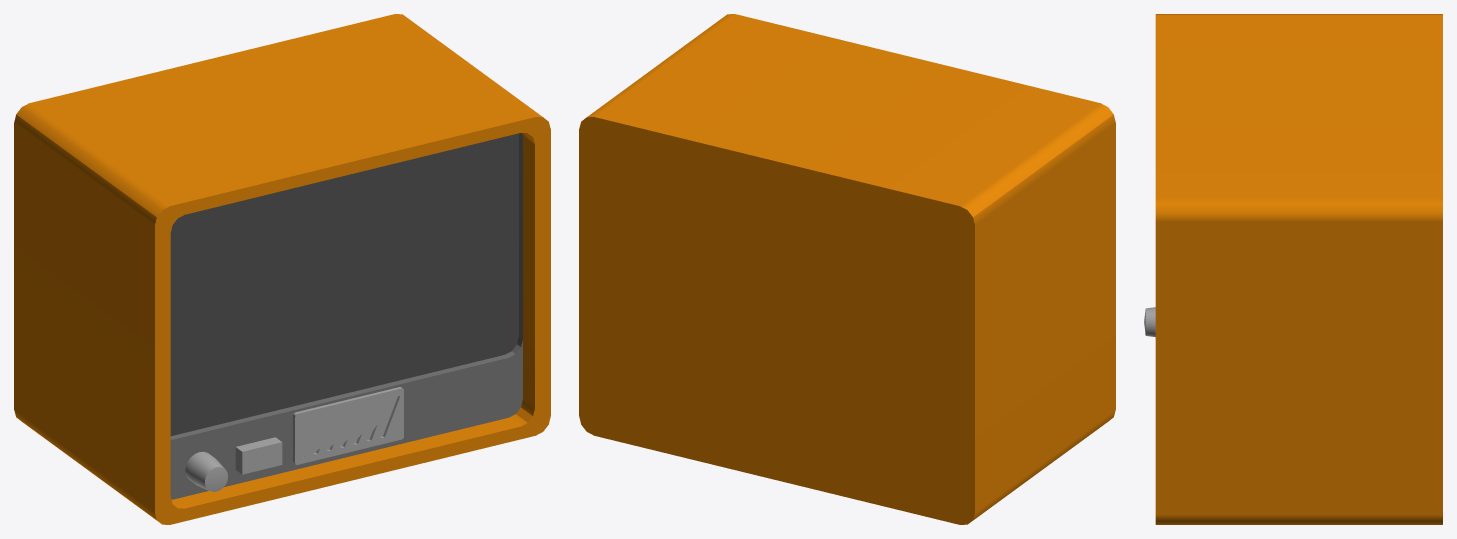
3 views of the same model, side by side, from view 1: azimuth 30°, elevation 25°; view 2: azimuth 150°, elevation 25°; view 3: azimuth 270°, elevation 25° (orthographic). The views are drawn at different scales.
Visible parts, largest first — view 1: Base_template6, Base_template_cutout2, pCube1, pCylinder1; view 2: Base_template6; view 3: Base_template6.
Boxes of the visible parts, x1=… form: Base_template6: x1=14, y1=14, x2=550, y2=524; Base_template_cutout2: x1=293, y1=387, x2=403, y2=464; pCube1: x1=235, y1=437, x2=282, y2=474; pCylinder1: x1=185, y1=451, x2=228, y2=491; Base_template6: x1=579, y1=14, x2=1115, y2=524; Base_template6: x1=1155, y1=14, x2=1442, y2=524.
Bounding box in the file's own units: 1.3 × 1 × 0.8317.
